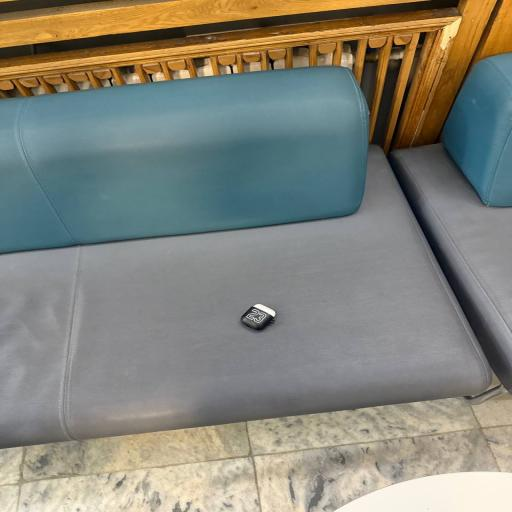sidewalk: (0, 68, 491, 448), (389, 54, 511, 394)
